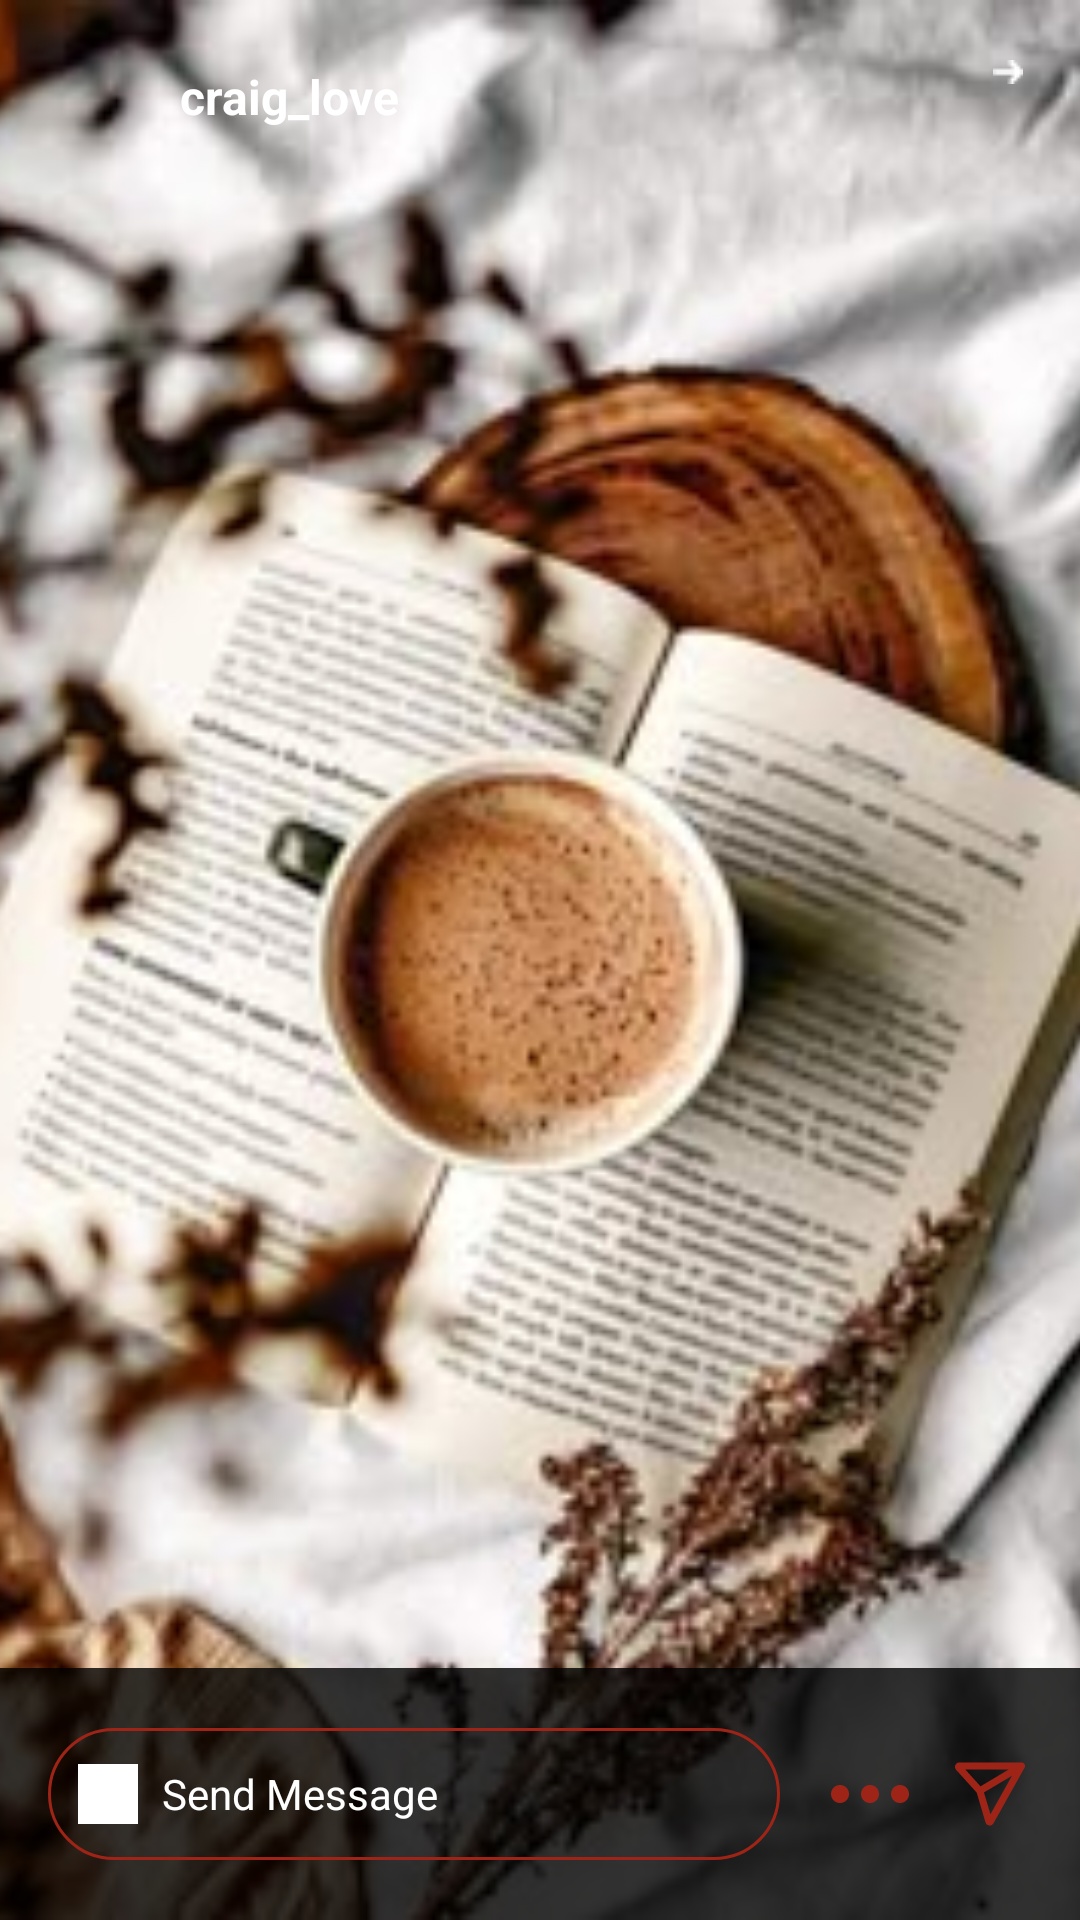

Where to tap for icons on this 1080*1920 app screen, as [x,y]:
options: [870,1794]
share: [986,1789]
